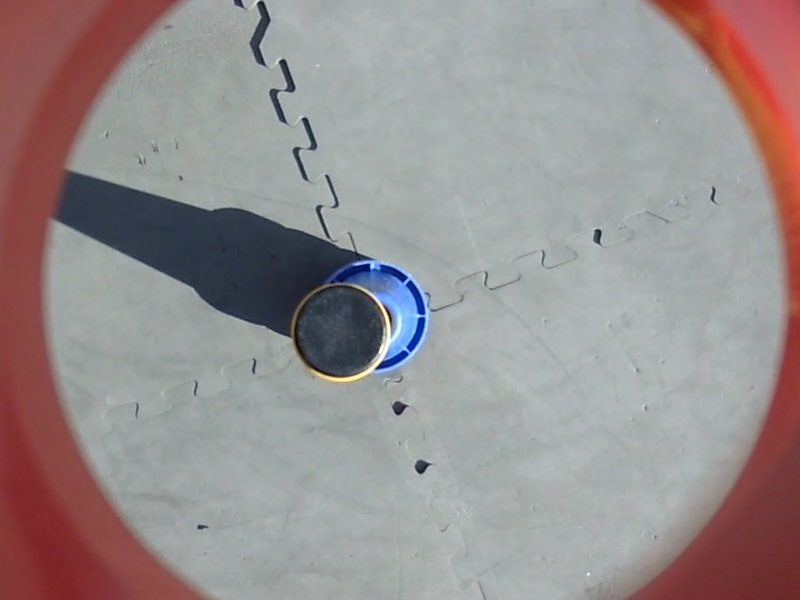tip: (288, 277, 393, 386)
